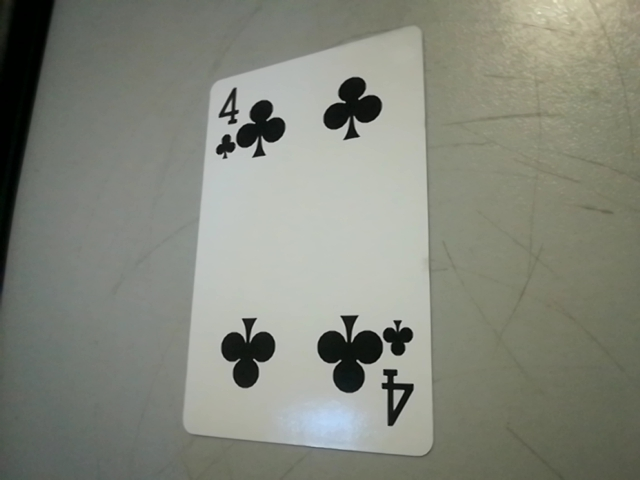mh 4: (374, 311, 430, 436)
